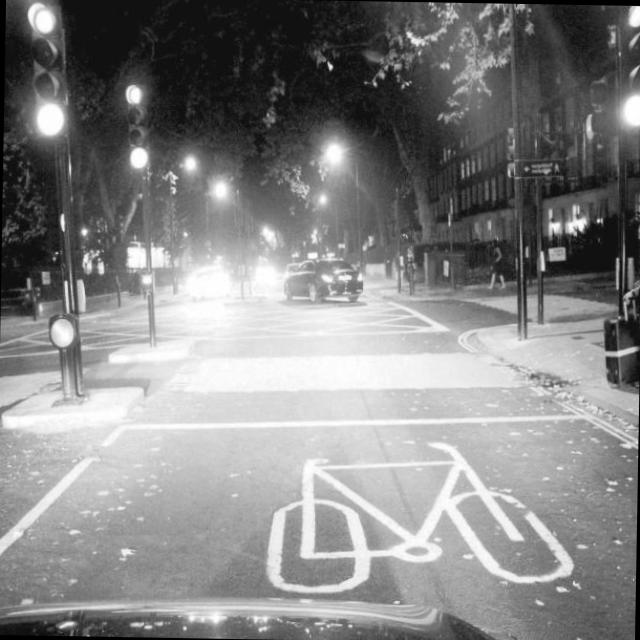Light: (24, 0, 66, 136), (620, 5, 640, 130), (124, 84, 148, 169)
Sign: (63, 278, 86, 312), (50, 317, 73, 348)
